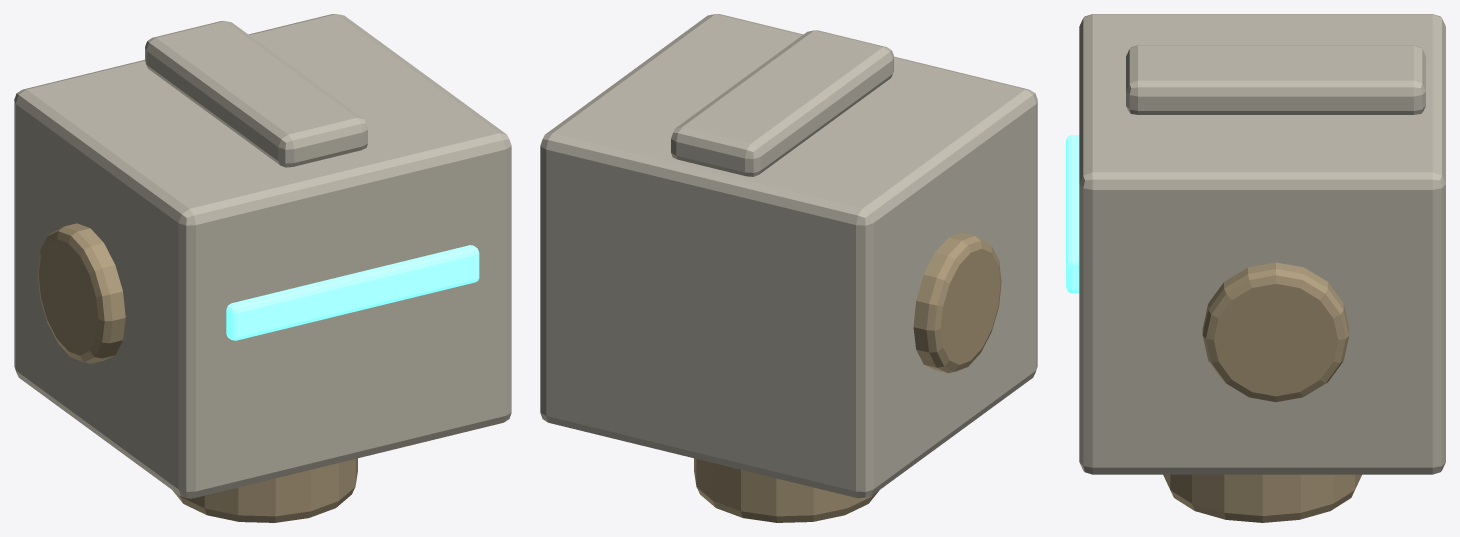
The model's file is Head.glb.
3 renders of one model, left to right at view 1: azimuth 30°, elevation 25°; view 2: azimuth 150°, elevation 25°; view 3: azimuth 270°, elevation 25°, orthographic. The views are drawn at different scales.
Visible parts, largest first — view 1: PART_Head.002; view 2: PART_Head.002; view 3: PART_Head.002.
Part boxes in pixels (x1,y1,x2,y2): PART_Head.002: (14,14,511,522); PART_Head.002: (540,14,1037,522); PART_Head.002: (1066,14,1445,522).
Bounding box in the file's own units: 0.68 × 0.7 × 0.57.
